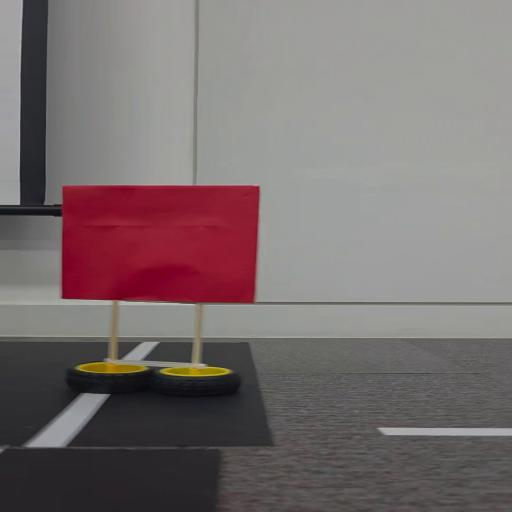Sign_A: (54, 180, 270, 396)
